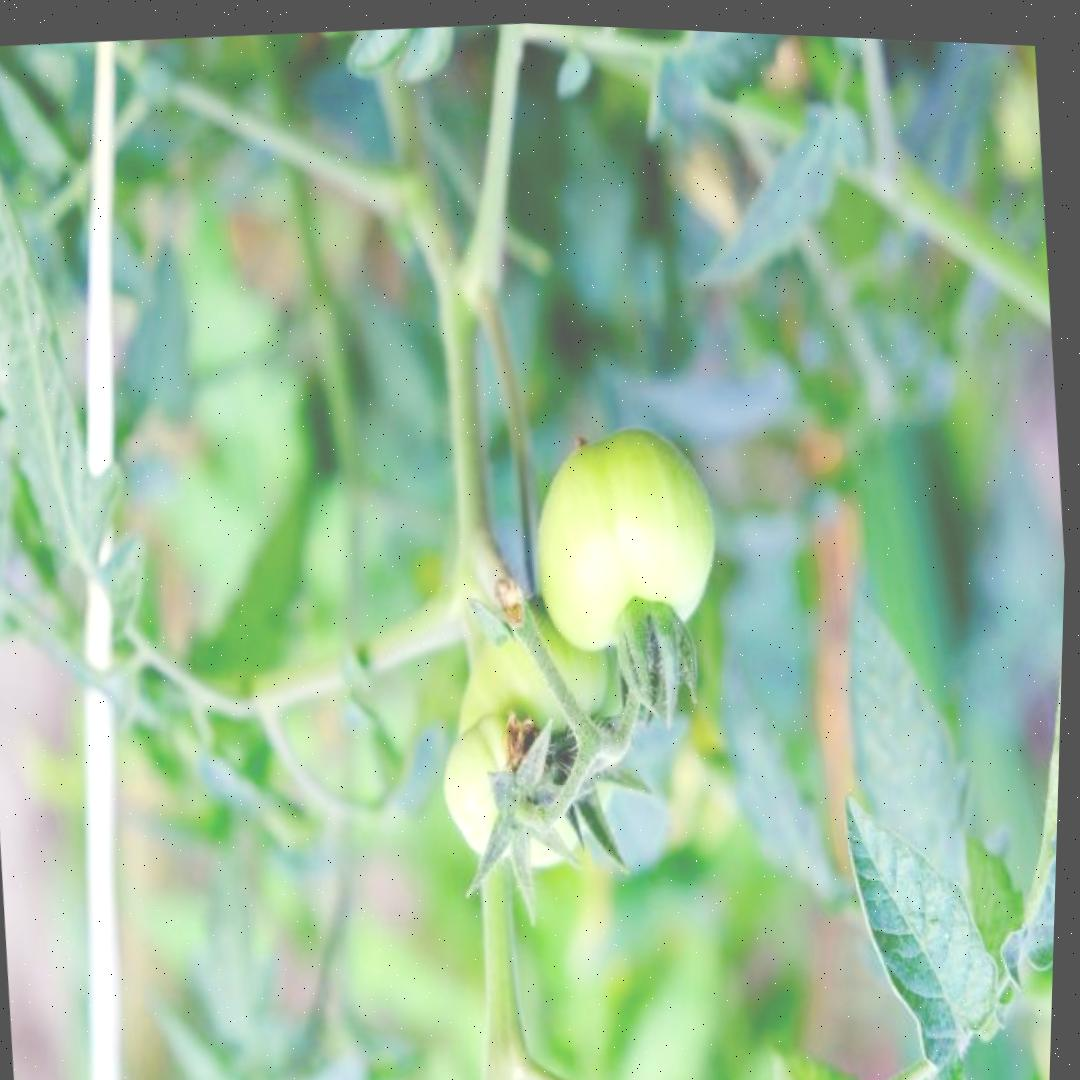mentah: (522, 416, 728, 660), (434, 707, 553, 864)
